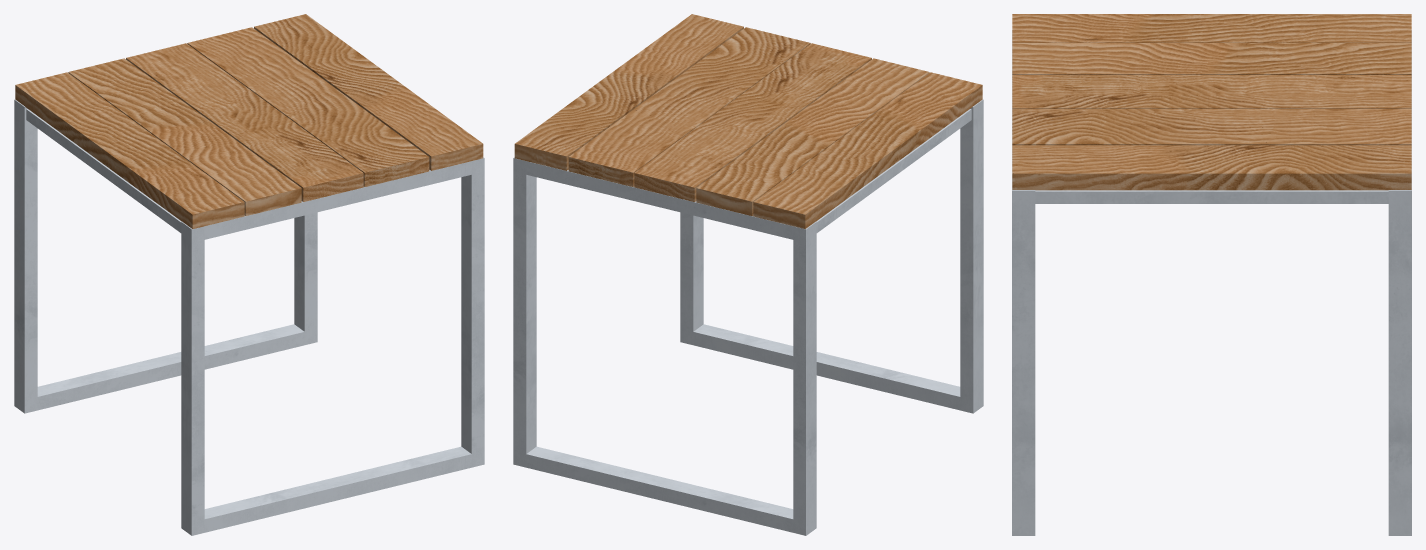
The model's file is SM_TablePlanksSmall.fbx.
3 views of the same model, side by side, from view 1: azimuth 30°, elevation 25°; view 2: azimuth 150°, elevation 25°; view 3: azimuth 270°, elevation 25° (orthographic). The views are drawn at different scales.
Visible parts, largest first — view 1: SM_TablePlanksSmall_LOD0; view 2: SM_TablePlanksSmall_LOD0; view 3: SM_TablePlanksSmall_LOD0.
Boxes of the visible parts, x1,y1,x2,y2 form: SM_TablePlanksSmall_LOD0: (14, 14, 484, 535); SM_TablePlanksSmall_LOD0: (513, 14, 983, 535); SM_TablePlanksSmall_LOD0: (1012, 14, 1411, 535).
Bounding box in the file's own units: 60 × 63 × 62.84.
2 materials, 2 textured.
